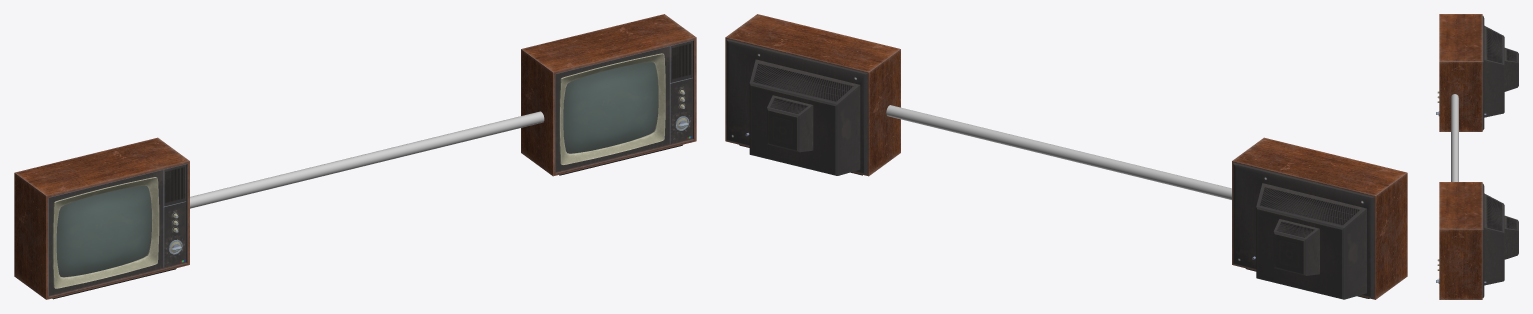
3 renders of one model, left to right at view 1: azimuth 30°, elevation 25°; view 2: azimuth 150°, elevation 25°; view 3: azimuth 270°, elevation 25°, orthographic. The views are drawn at different scales.
Visible parts, largest first — view 1: TV.001, TV, Cylinder; view 2: TV.001, TV, Cylinder; view 3: TV, TV.001, Cylinder.
Part boxes in pixels (box(x1,y1,x2,y2)): TV.001: box(14, 137, 189, 299); TV: box(521, 14, 696, 176); Cylinder: box(190, 111, 544, 208); TV.001: box(1232, 137, 1407, 299); TV: box(725, 14, 900, 176); Cylinder: box(886, 105, 1231, 199); TV: box(1436, 182, 1518, 299); TV.001: box(1436, 14, 1518, 131); Cylinder: box(1451, 94, 1458, 181).
Bounding box in the file's own units: 2.36 × 0.3764 × 0.3823.
Materials: 2 (1 with a texture image).
